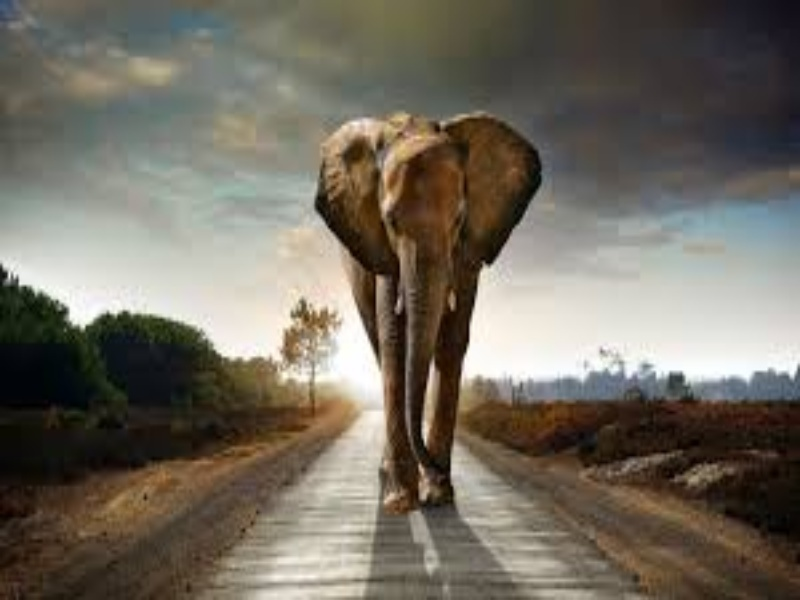elephant: (307, 107, 546, 533)
